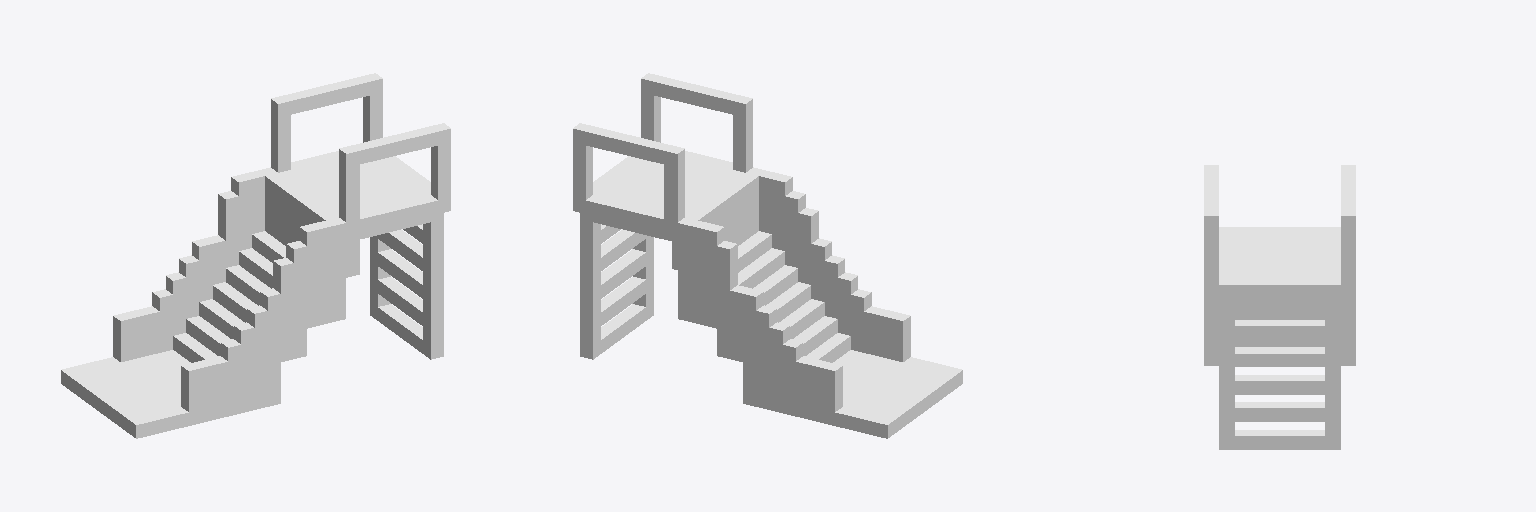
Rendered from Rutsche.obj.
3 renders of one model, left to right at view 1: azimuth 30°, elevation 25°; view 2: azimuth 150°, elevation 25°; view 3: azimuth 270°, elevation 25°, orthographic.
Visible parts, largest first — view 1: object 1; view 2: object 1; view 3: object 1.
Boxes of the visible parts, box(x1,y1,x2,y2) form: object 1: box(61, 73, 450, 438); object 1: box(573, 73, 962, 438); object 1: box(1204, 165, 1355, 449).
Size of the model in its own units: 2.4 by 1.7 by 1.